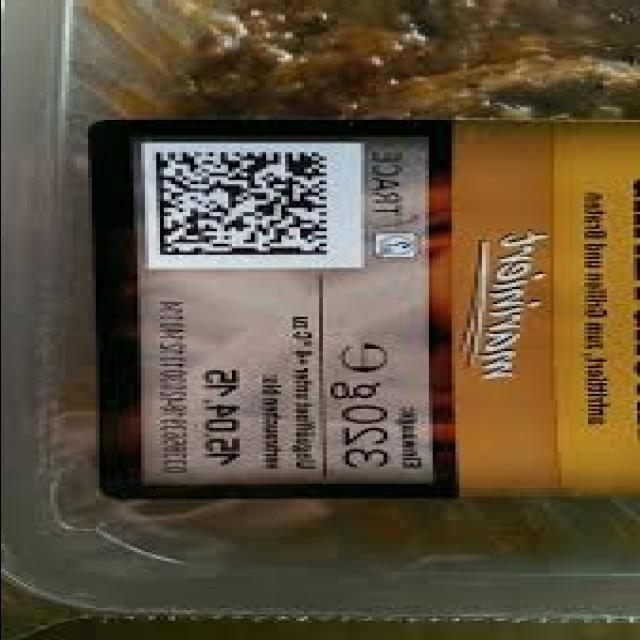Data-Matrix: (132, 144, 341, 261)
